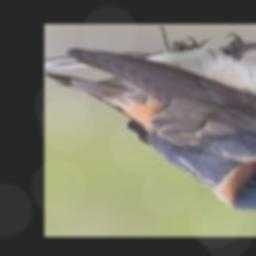Swallow: (45, 47, 256, 211)
